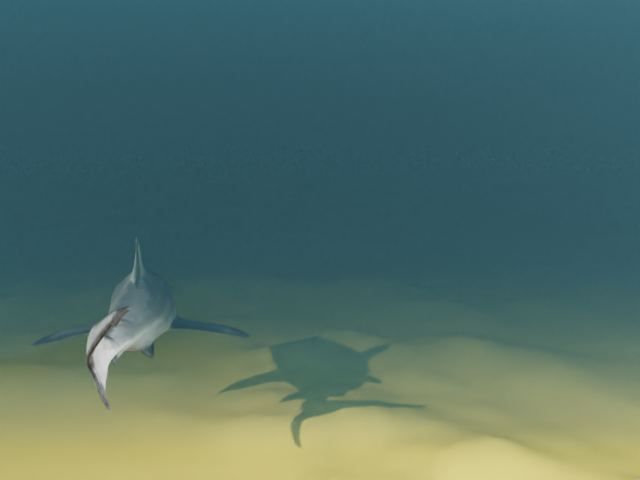Carribean Shark.001: (30, 236, 250, 410)
